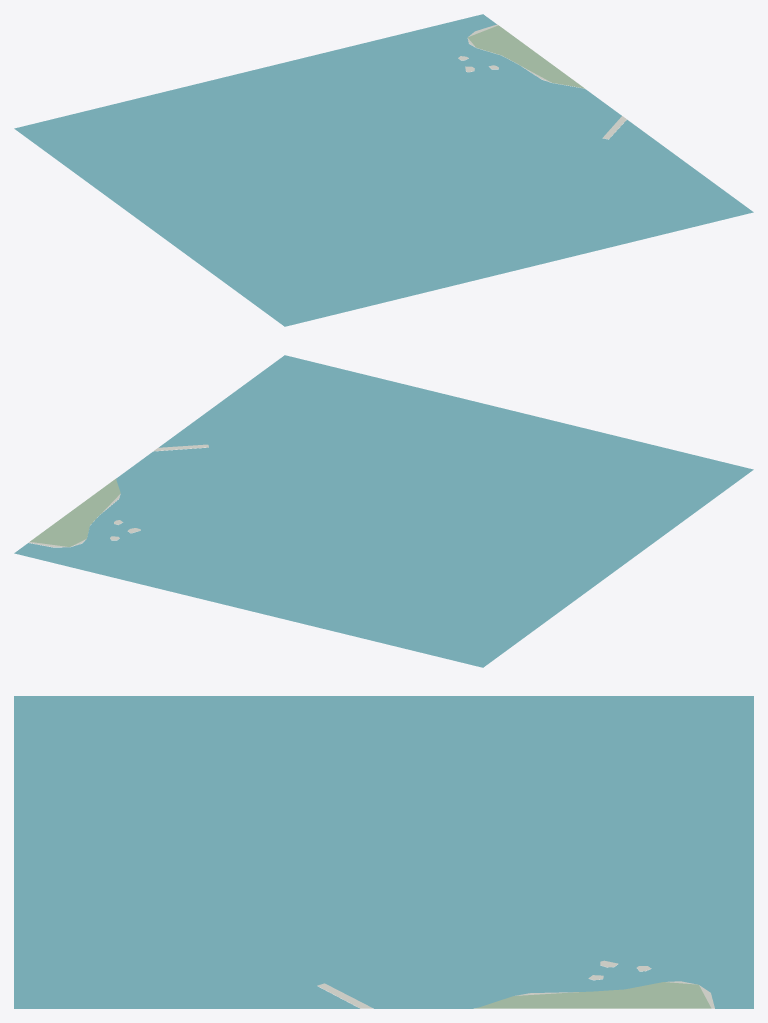
The picture shows the model from 3 angles, top to bottom: view 1: azimuth 30°, elevation 25°; view 2: azimuth 150°, elevation 25°; view 3: azimuth 270°, elevation 25°; orthographic projection. The views are drawn at different scales.
Visible parts, largest first — view 1: city; view 2: city; view 3: city.
Part boxes in pixels (x1,y1,x2,y2): city: (14, 14, 753, 326); city: (14, 355, 753, 667); city: (14, 696, 753, 1008).
Size of the model in its own units: 500 by 0.205 by 500.
